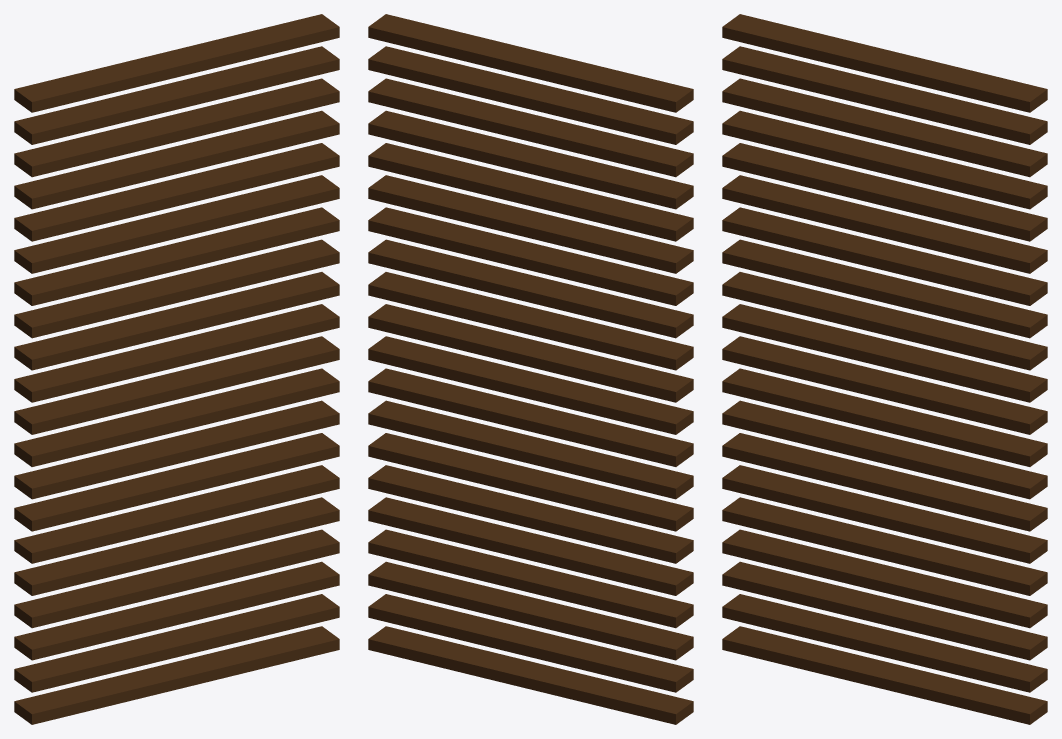
Rendered from Wall_Simple.glb.
3 views of the same model, side by side, from view 1: azimuth 30°, elevation 25°; view 2: azimuth 150°, elevation 25°; view 3: azimuth 330°, elevation 25° (orthographic).
Visible parts, largest first — view 1: Wall_Simple_plank_02, Wall_Simple_plank_17, Wall_Simple_plank_03, Wall_Simple_plank_08, Wall_Simple_plank_09, Wall_Simple_plank_10, Wall_Simple_plank_11, Wall_Simple_plank_16, Wall_Simple_plank_01, Wall_Simple_plank_18, Wall_Simple_plank_00, Wall_Simple_plank_07 (+8 smaller); view 2: Wall_Simple_plank_02, Wall_Simple_plank_17, Wall_Simple_plank_03, Wall_Simple_plank_08, Wall_Simple_plank_09, Wall_Simple_plank_10, Wall_Simple_plank_11, Wall_Simple_plank_16, Wall_Simple_plank_01, Wall_Simple_plank_18, Wall_Simple_plank_00, Wall_Simple_plank_07 (+8 smaller); view 3: Wall_Simple_plank_02, Wall_Simple_plank_17, Wall_Simple_plank_03, Wall_Simple_plank_08, Wall_Simple_plank_09, Wall_Simple_plank_10, Wall_Simple_plank_11, Wall_Simple_plank_16, Wall_Simple_plank_01, Wall_Simple_plank_18, Wall_Simple_plank_00, Wall_Simple_plank_07 (+8 smaller).
Part boxes in pixels (<box>): Wall_Simple_plank_02: <box>14,561,339,660</box>; Wall_Simple_plank_17: <box>14,78,339,177</box>; Wall_Simple_plank_03: <box>14,529,339,628</box>; Wall_Simple_plank_08: <box>14,368,339,466</box>; Wall_Simple_plank_09: <box>14,336,339,434</box>; Wall_Simple_plank_10: <box>14,304,339,402</box>; Wall_Simple_plank_11: <box>14,272,339,370</box>; Wall_Simple_plank_16: <box>14,110,339,209</box>; Wall_Simple_plank_01: <box>14,594,339,692</box>; Wall_Simple_plank_18: <box>14,46,339,144</box>; Wall_Simple_plank_00: <box>14,626,339,724</box>; Wall_Simple_plank_07: <box>14,400,339,499</box>; Wall_Simple_plank_02: <box>368,561,693,660</box>; Wall_Simple_plank_17: <box>368,78,693,177</box>; Wall_Simple_plank_03: <box>368,529,693,628</box>; Wall_Simple_plank_08: <box>368,368,693,466</box>; Wall_Simple_plank_09: <box>368,336,693,434</box>; Wall_Simple_plank_10: <box>368,304,693,402</box>; Wall_Simple_plank_11: <box>368,272,693,370</box>; Wall_Simple_plank_16: <box>368,110,693,209</box>; Wall_Simple_plank_01: <box>368,594,693,692</box>; Wall_Simple_plank_18: <box>368,46,693,144</box>; Wall_Simple_plank_00: <box>368,626,693,724</box>; Wall_Simple_plank_07: <box>368,400,693,499</box>; Wall_Simple_plank_02: <box>722,561,1047,660</box>; Wall_Simple_plank_17: <box>722,78,1047,177</box>; Wall_Simple_plank_03: <box>722,529,1047,628</box>; Wall_Simple_plank_08: <box>722,368,1047,466</box>; Wall_Simple_plank_09: <box>722,336,1047,434</box>; Wall_Simple_plank_10: <box>722,304,1047,402</box>; Wall_Simple_plank_11: <box>722,272,1047,370</box>; Wall_Simple_plank_16: <box>722,110,1047,209</box>; Wall_Simple_plank_01: <box>722,594,1047,692</box>; Wall_Simple_plank_18: <box>722,46,1047,144</box>; Wall_Simple_plank_00: <box>722,626,1047,724</box>; Wall_Simple_plank_07: <box>722,400,1047,499</box>.
Size of the model in its own units: 1.5 by 2.9 by 0.15.
